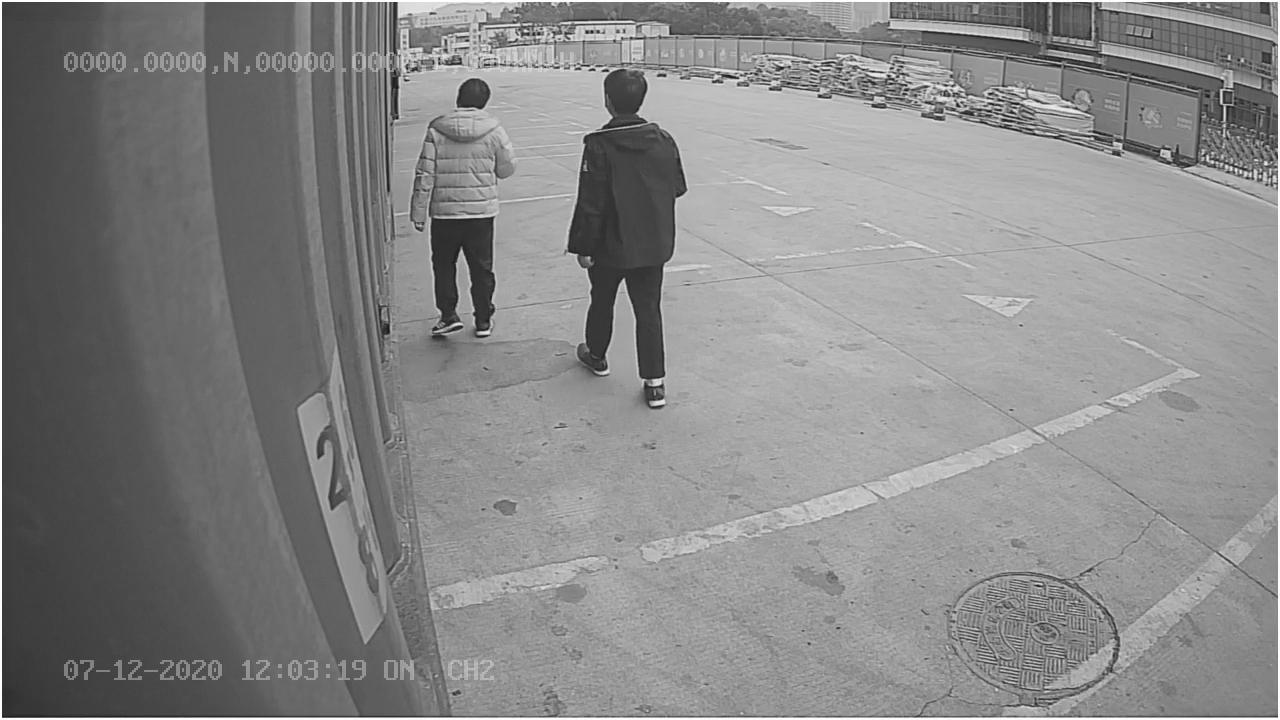person: (562, 65, 686, 409), (411, 76, 516, 340)
